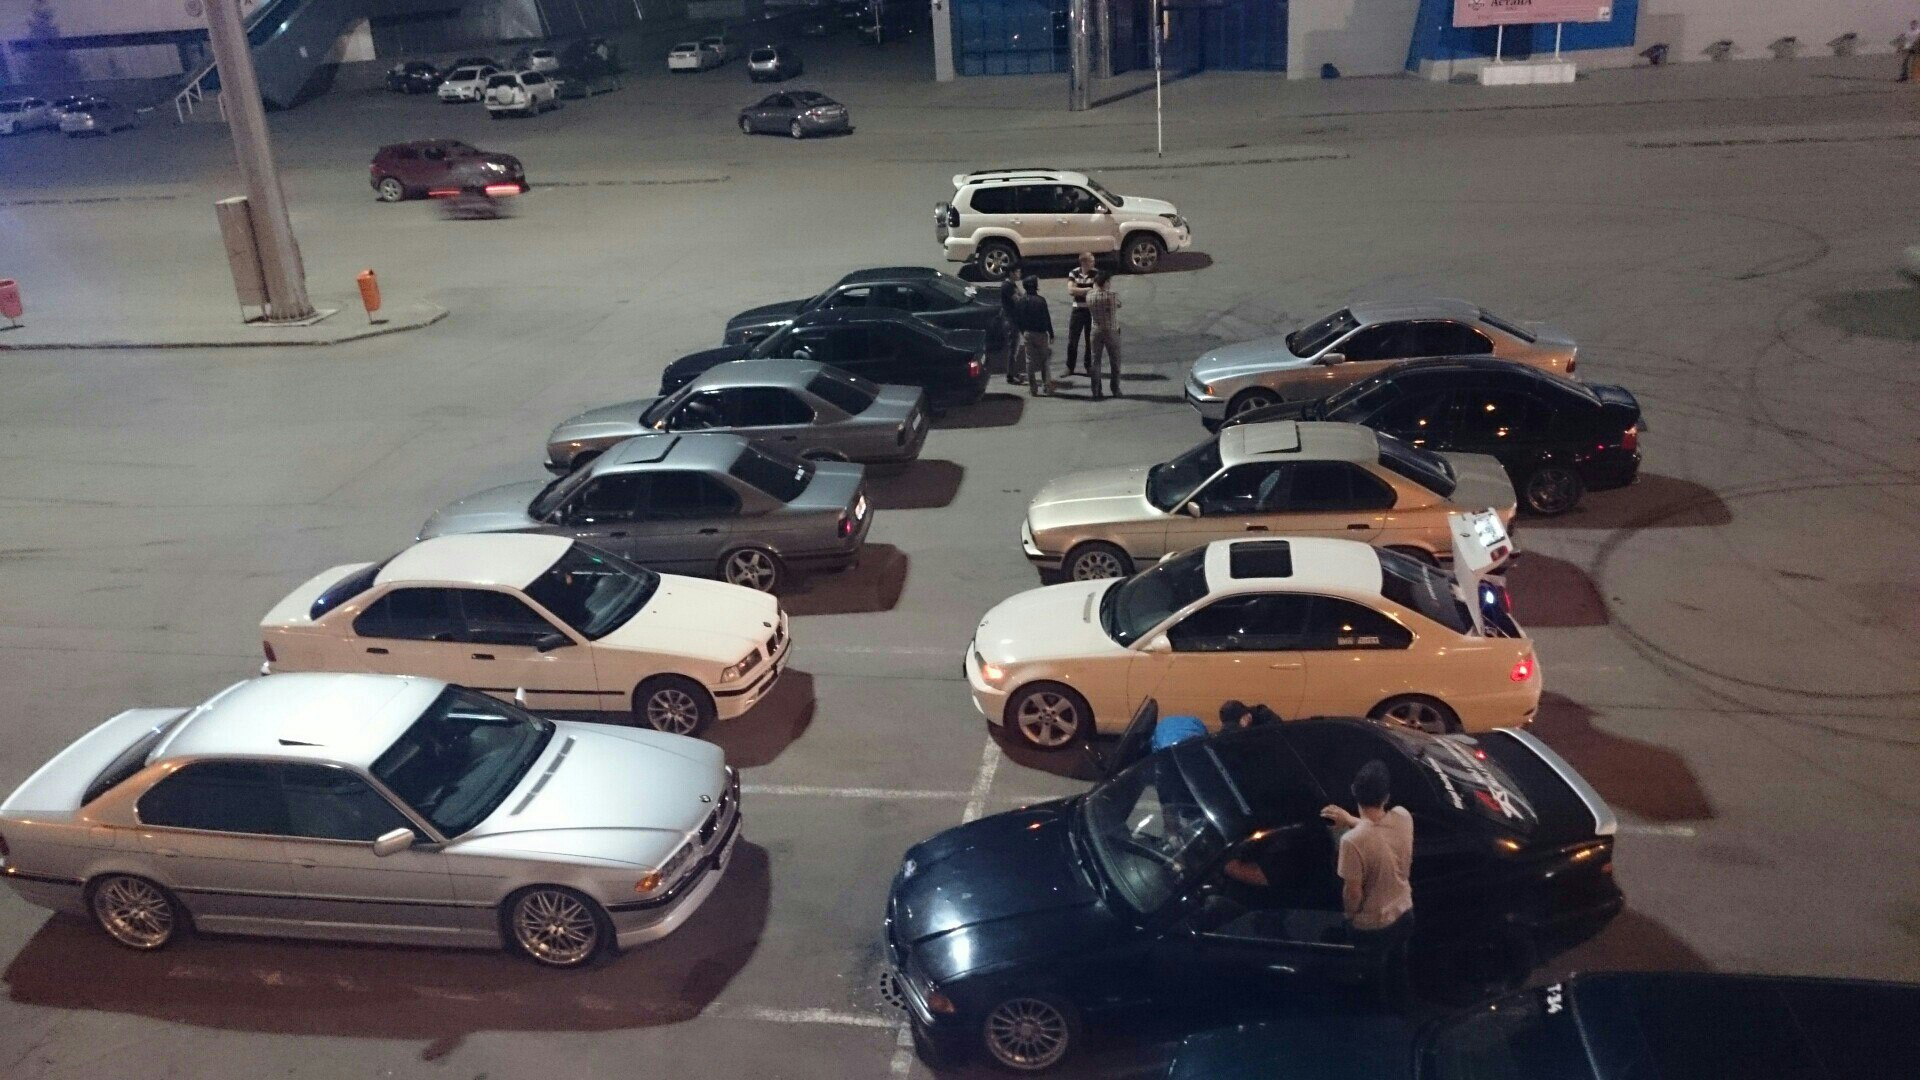Car: (884, 698, 1626, 1077), (0, 673, 741, 968), (963, 504, 1545, 748), (260, 531, 793, 736), (1160, 971, 1920, 1080), (1018, 422, 1522, 580), (417, 434, 874, 593), (1220, 356, 1642, 517), (1184, 299, 1578, 427), (545, 359, 930, 473), (658, 307, 990, 411), (934, 167, 1192, 281), (721, 266, 1007, 351), (371, 137, 525, 200), (738, 88, 853, 138), (484, 70, 563, 117), (59, 100, 138, 135), (438, 65, 502, 103), (550, 63, 621, 98), (42, 95, 105, 132), (746, 45, 802, 80), (666, 41, 723, 74), (560, 38, 616, 71), (0, 96, 46, 136), (386, 61, 442, 92), (856, 13, 914, 41), (443, 57, 505, 79), (514, 47, 560, 75), (1899, 237, 1920, 291), (802, 12, 841, 36), (833, 1, 873, 21), (703, 36, 735, 59)
